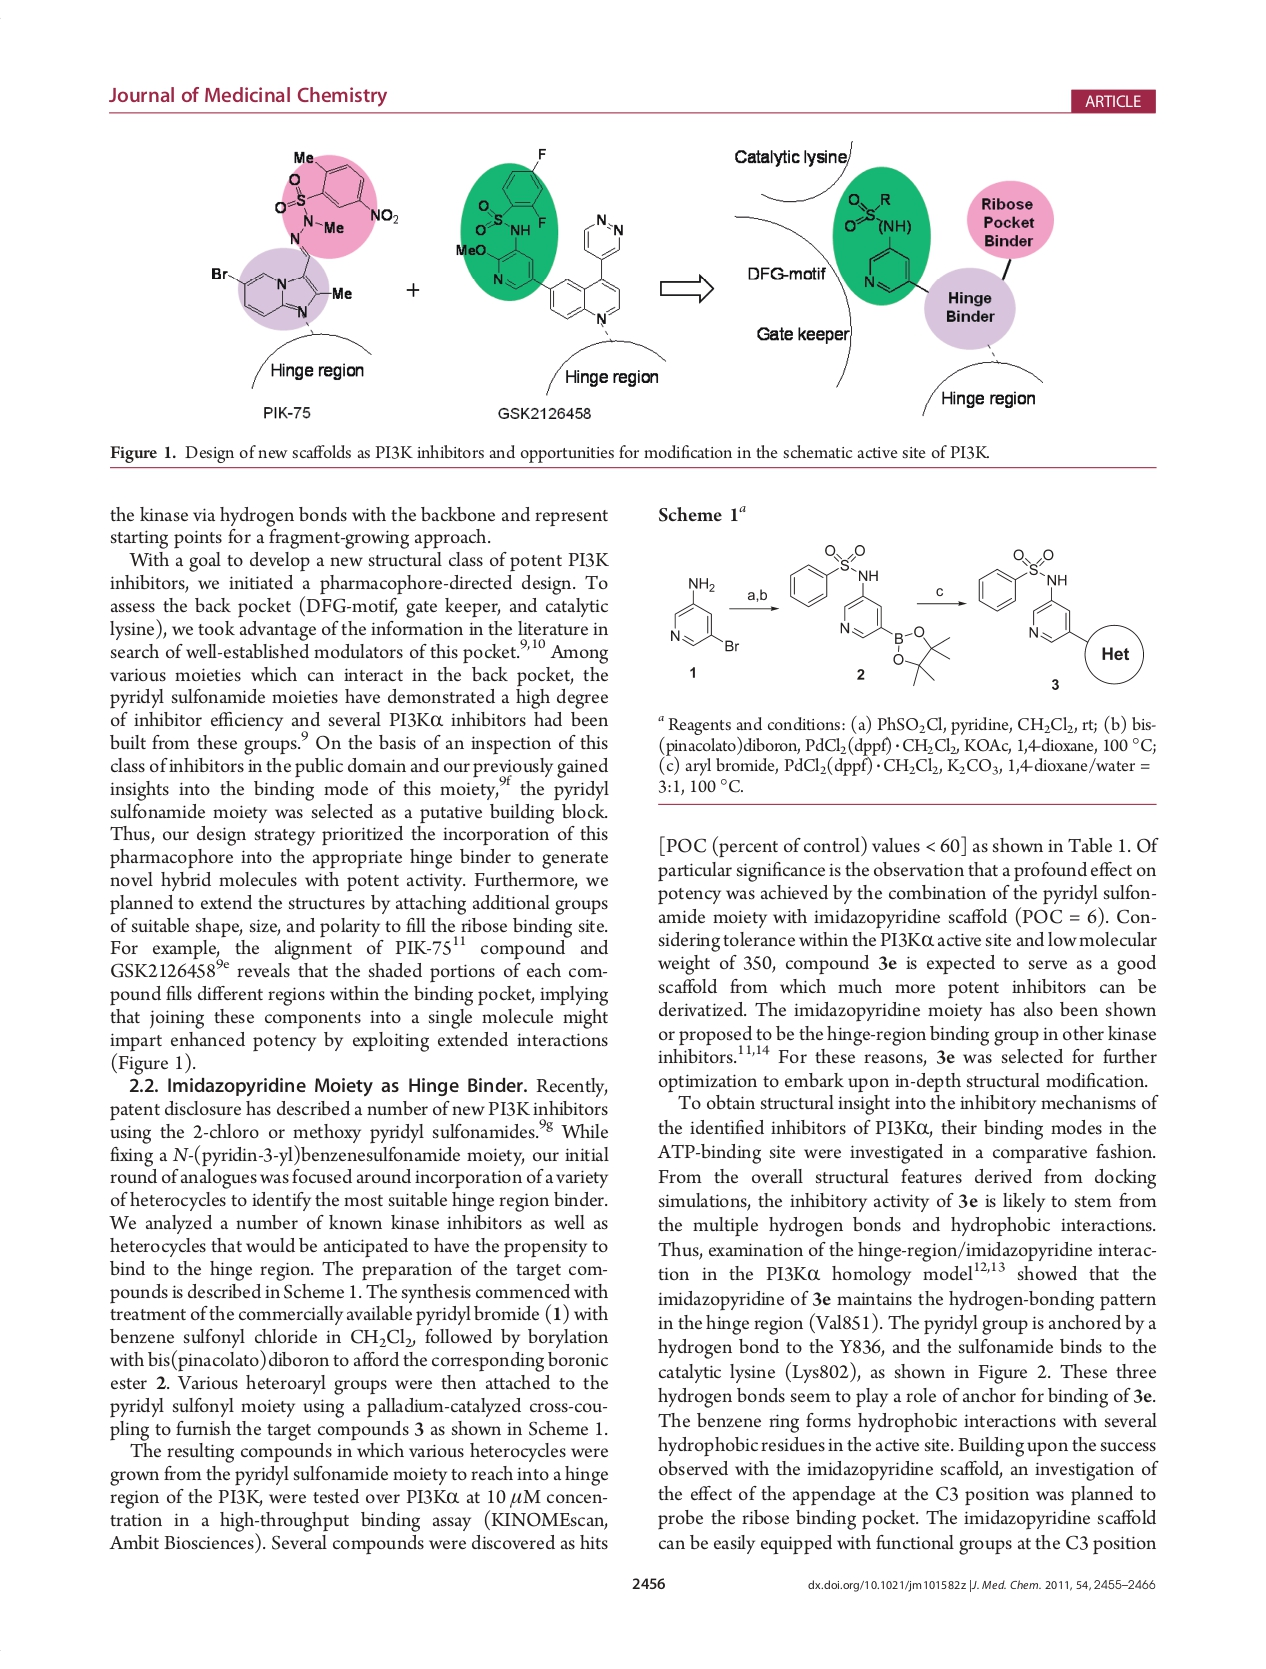exist_molecular: (210, 148, 399, 324), (453, 145, 632, 328), (973, 547, 1148, 690), (785, 540, 953, 688), (842, 182, 932, 301), (668, 573, 739, 656)
